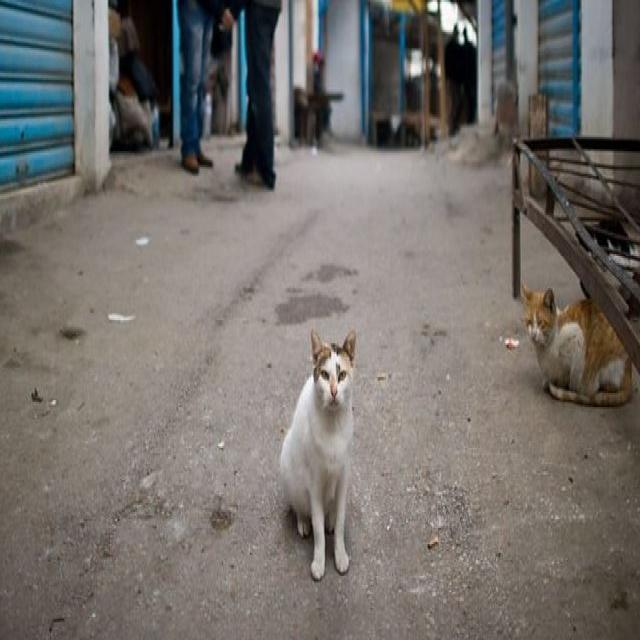cat: (265, 338, 382, 601), (508, 265, 640, 459)
